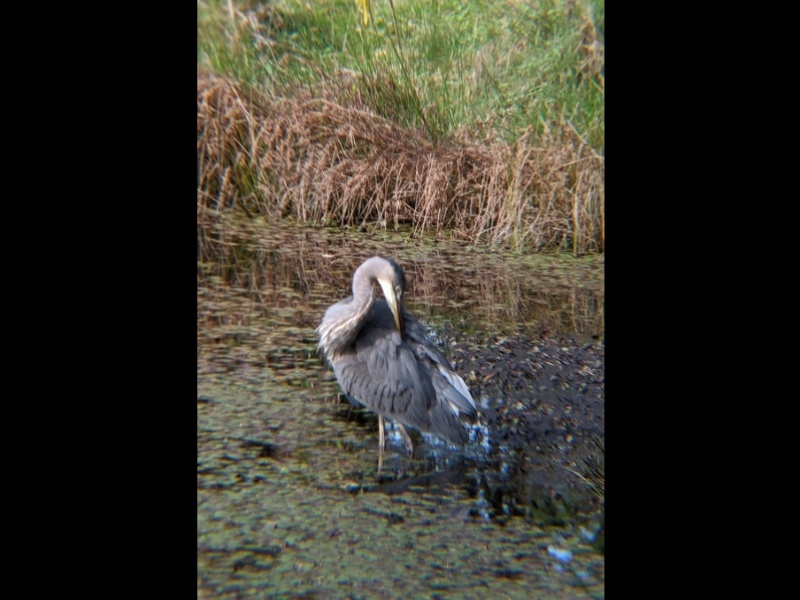heron: (317, 253, 479, 473)
